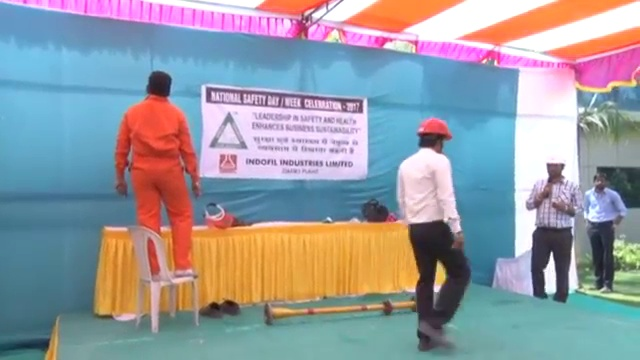helmet: (415, 115, 454, 139), (545, 155, 566, 166)
helmet_off: (147, 70, 173, 100), (592, 171, 610, 193)
helmet_on: (415, 116, 453, 158), (544, 156, 566, 185)
person: (110, 68, 203, 281), (391, 114, 471, 351), (525, 153, 582, 303), (582, 169, 627, 295)
